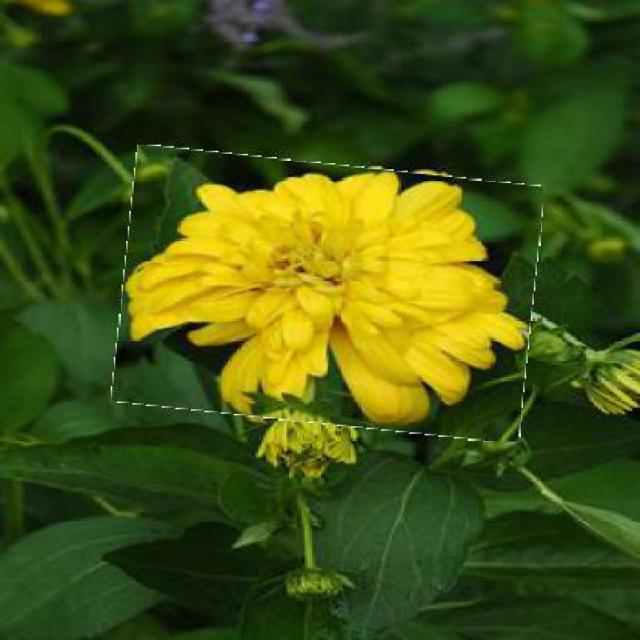Flower: (117, 155, 538, 433)
